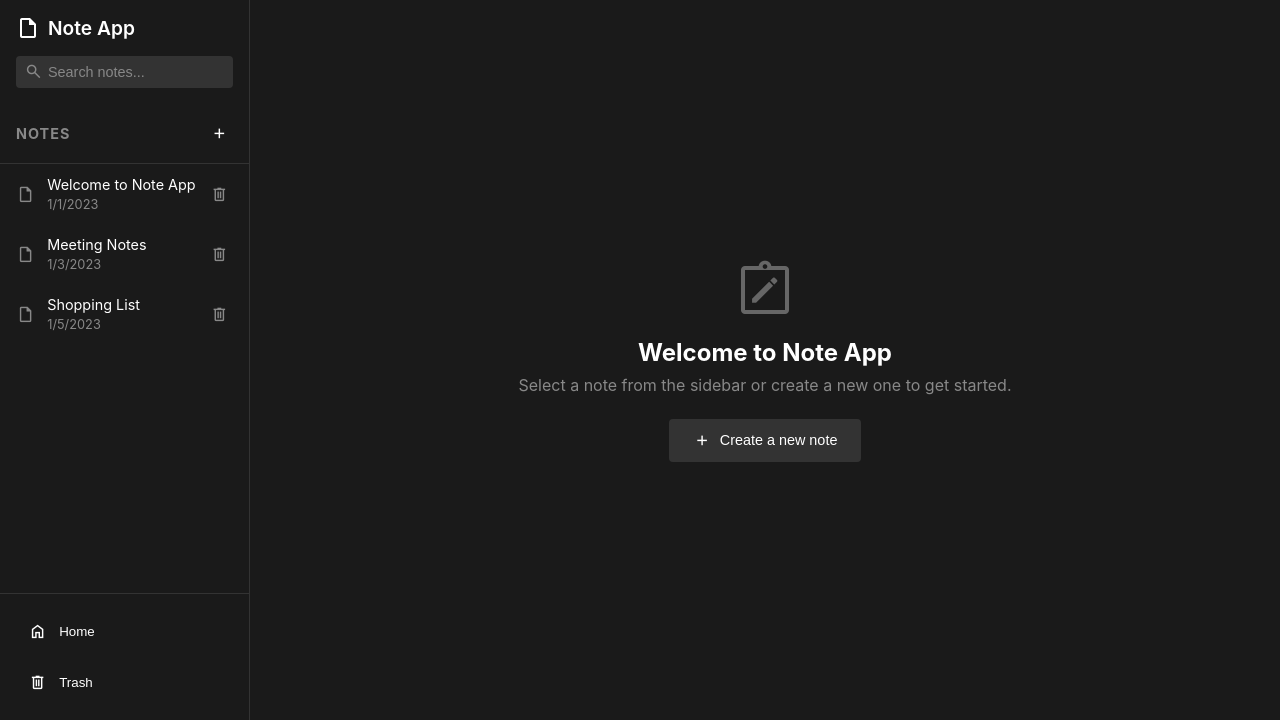
Test: App Component › handles note editing
Note: Create a new note
Click the button "Create a new note" at (765,440), box left=669, top=419, right=861, bottom=462
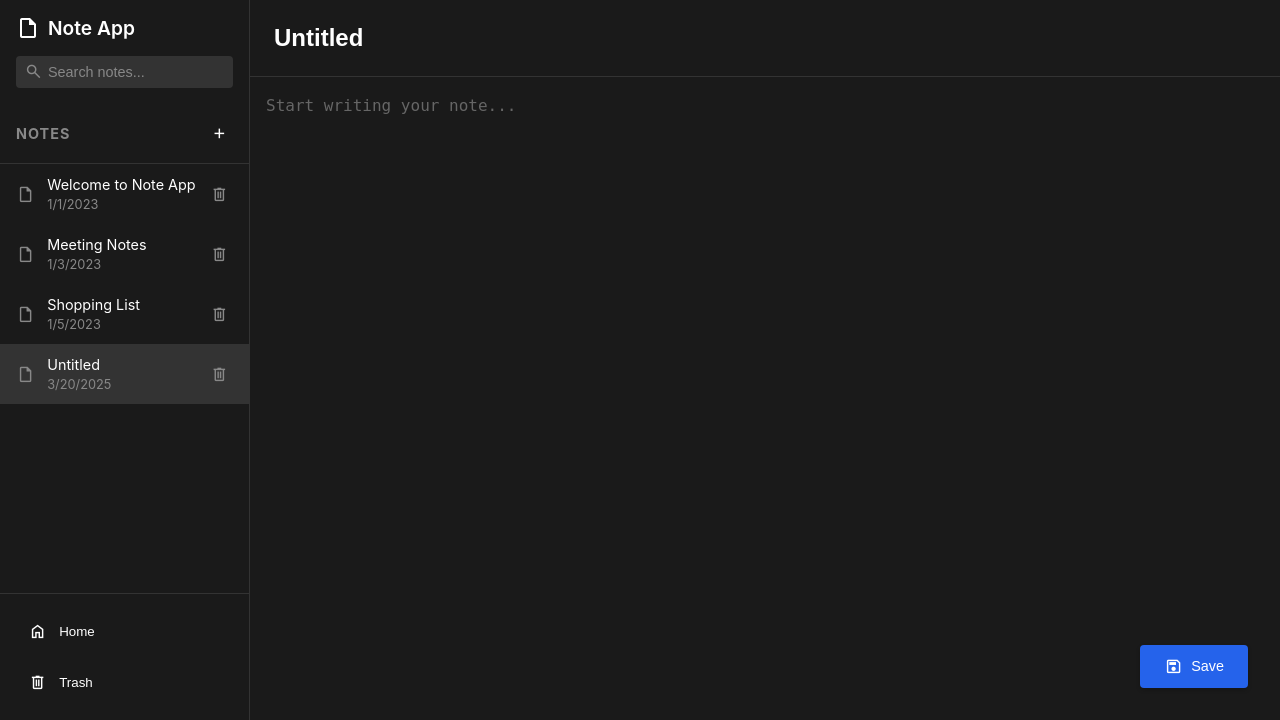
Note: Edit the title
Type "Test Note" into the field with placeholder "Untitled" at (765,38), box left=266, top=16, right=1264, bottom=60
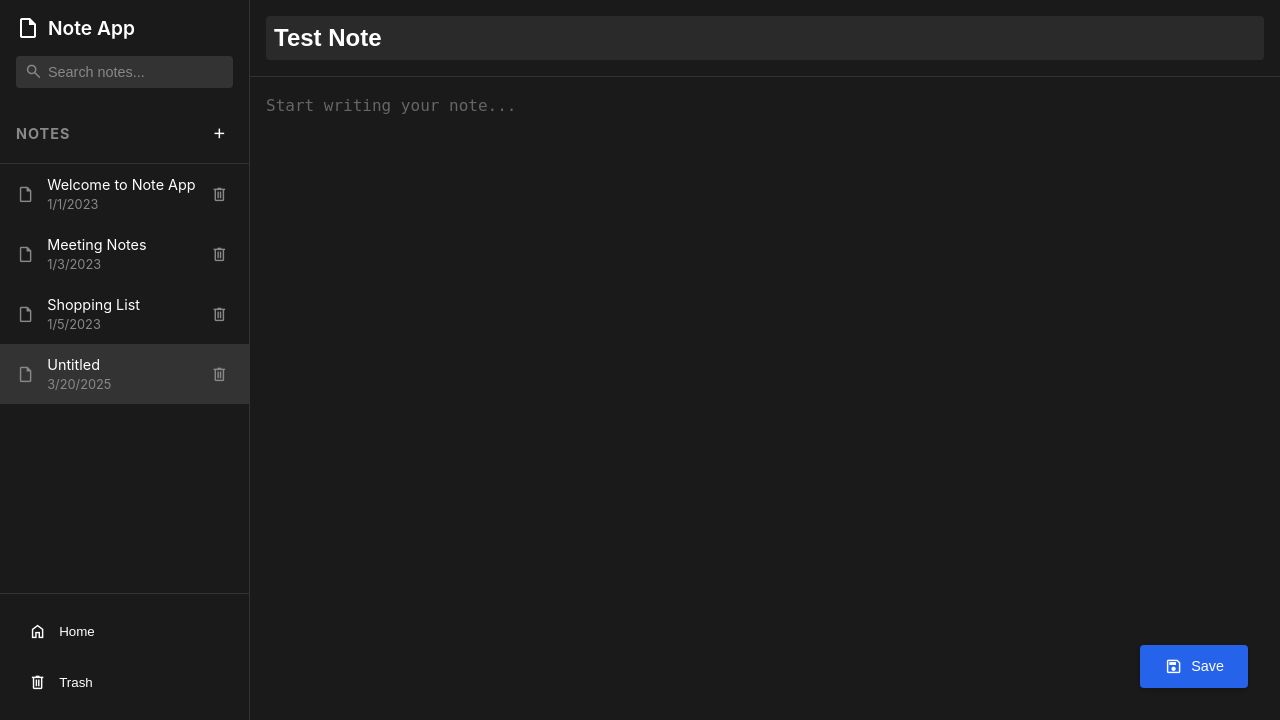
Note: Edit the content
Type "Test Content" into the text box with placeholder "Start writing your note..." at (765,118), box left=266, top=93, right=1264, bottom=144
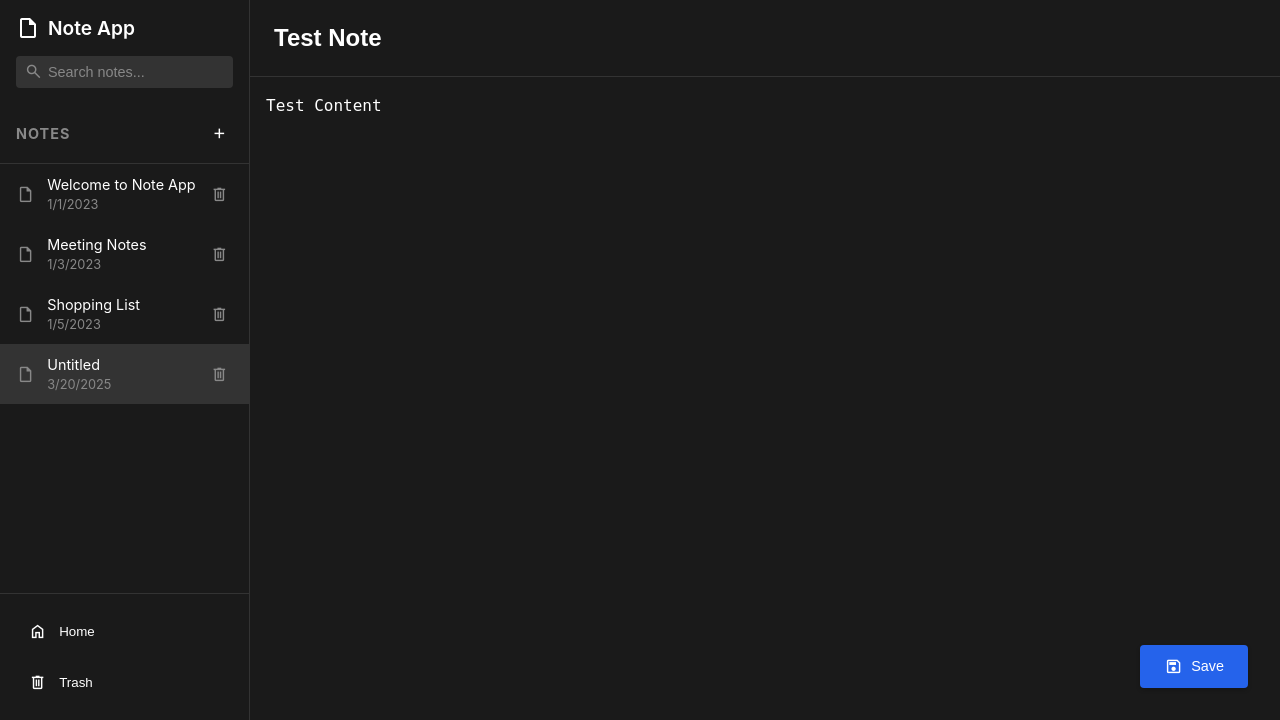
Note: Save the note
Click the button "Save" at (1194,666), box left=1140, top=645, right=1248, bottom=688
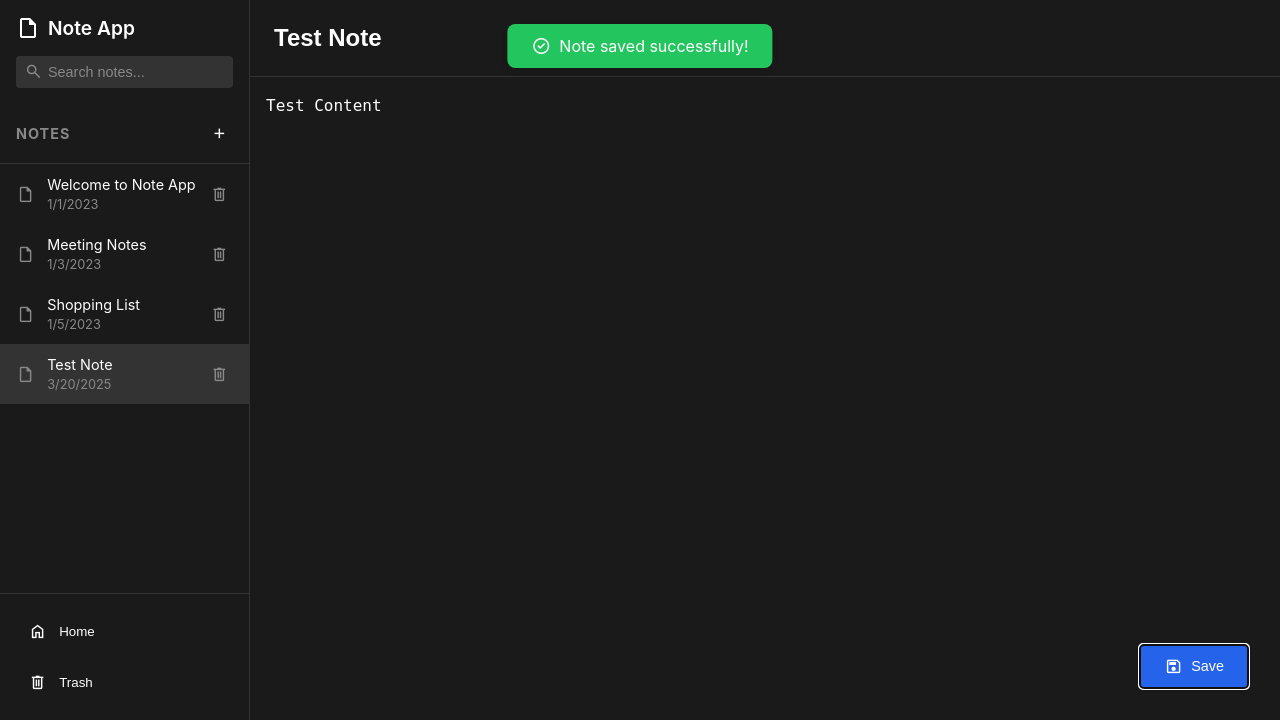
Expected: the text "Note saved successfully!" is shown, left=507, top=24, right=773, bottom=68
